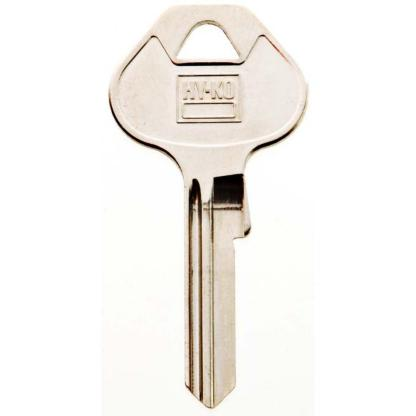key: (106, 5, 305, 404)
